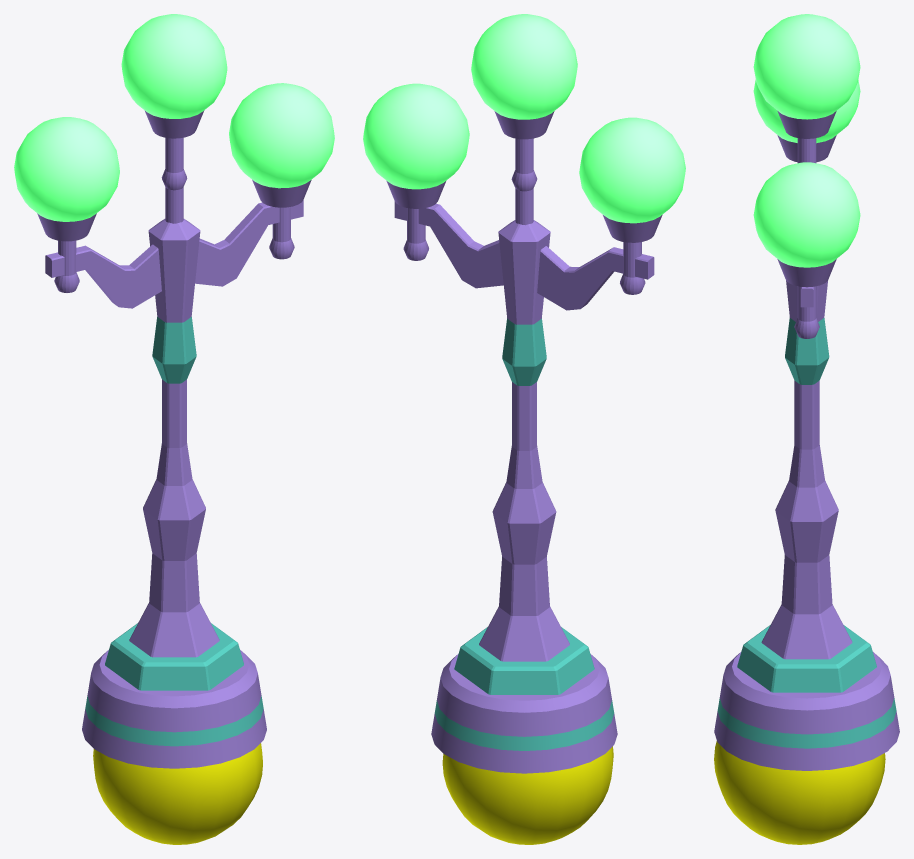
The model's file is Streetlight_DistrictD.fbx.
3 views of the same model, side by side, from view 1: azimuth 30°, elevation 25°; view 2: azimuth 150°, elevation 25°; view 3: azimuth 270°, elevation 25° (orthographic).
Visible parts, largest first — view 1: balls, Streetlight_DistrictD, g__rocketbase2, arms, g__blaster; view 2: balls, Streetlight_DistrictD, g__rocketbase2, arms, g__blaster; view 3: Streetlight_DistrictD, balls, g__rocketbase2, g__blaster, arms.
Boxes of the visible parts, left/top/right/bottom form: balls: left=14, top=14, right=334, bottom=221; Streetlight_DistrictD: left=105, top=219, right=243, bottom=690; g__rocketbase2: left=82, top=650, right=266, bottom=768; arms: left=37, top=110, right=311, bottom=308; g__blaster: left=93, top=743, right=262, bottom=844; balls: left=363, top=14, right=685, bottom=223; Streetlight_DistrictD: left=454, top=220, right=594, bottom=694; g__rocketbase2: left=431, top=654, right=617, bottom=773; arms: left=386, top=111, right=662, bottom=310; g__blaster: left=442, top=746, right=613, bottom=844; Streetlight_DistrictD: left=737, top=281, right=876, bottom=692; balls: left=753, top=14, right=860, bottom=267; g__rocketbase2: left=714, top=652, right=899, bottom=770; g__blaster: left=714, top=741, right=885, bottom=844; arms: left=777, top=111, right=836, bottom=338.
Bounding box in the file's own units: 3.04 × 7.71 × 1.59.
